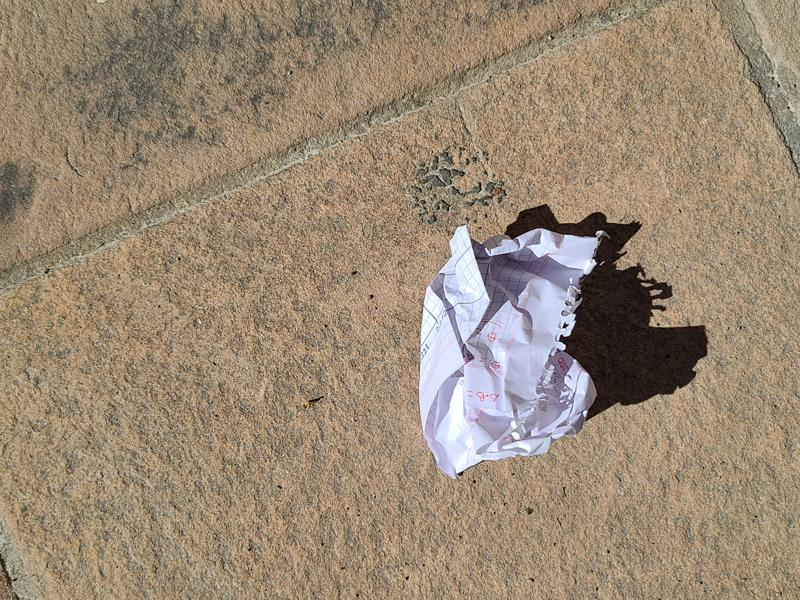papel: (419, 225, 603, 480)
